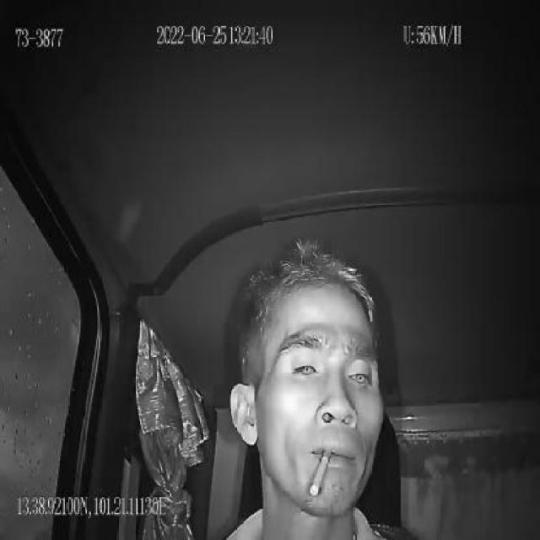smoking: (310, 448, 333, 498)
